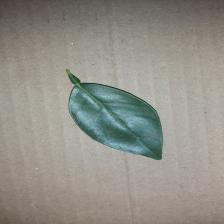healthy: (52, 69, 188, 167)
